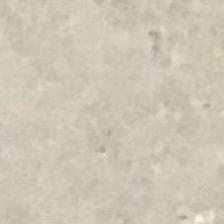Non_Crack: (15, 48, 195, 198)
